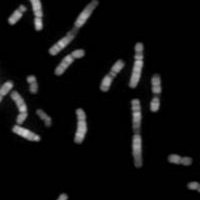chromosome: (47, 0, 98, 55), (130, 99, 143, 168), (98, 59, 124, 92), (54, 50, 85, 76), (128, 42, 145, 87), (20, 0, 43, 30), (11, 90, 28, 123), (12, 124, 41, 142), (0, 80, 14, 117), (74, 108, 87, 144), (150, 74, 162, 112), (167, 153, 194, 167), (8, 4, 26, 23), (35, 108, 52, 127), (54, 193, 90, 200), (26, 74, 39, 93), (186, 182, 200, 198), (0, 41, 1, 90)
